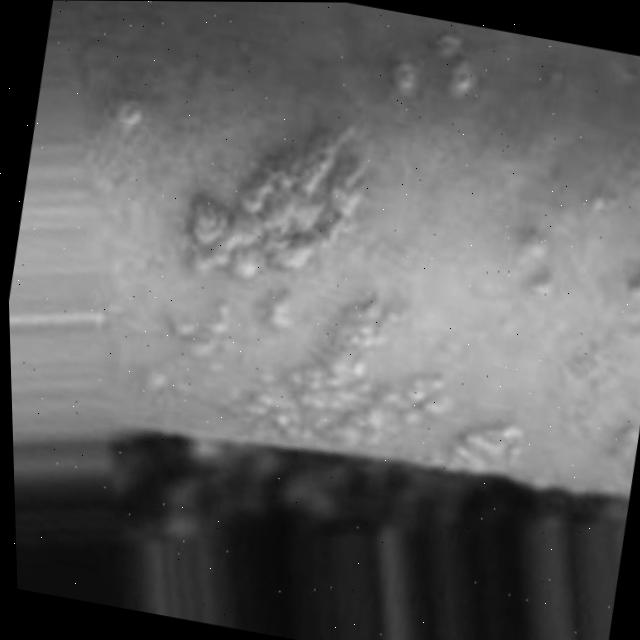Shingles: (108, 99, 577, 485), (374, 21, 483, 101), (115, 89, 149, 128)
